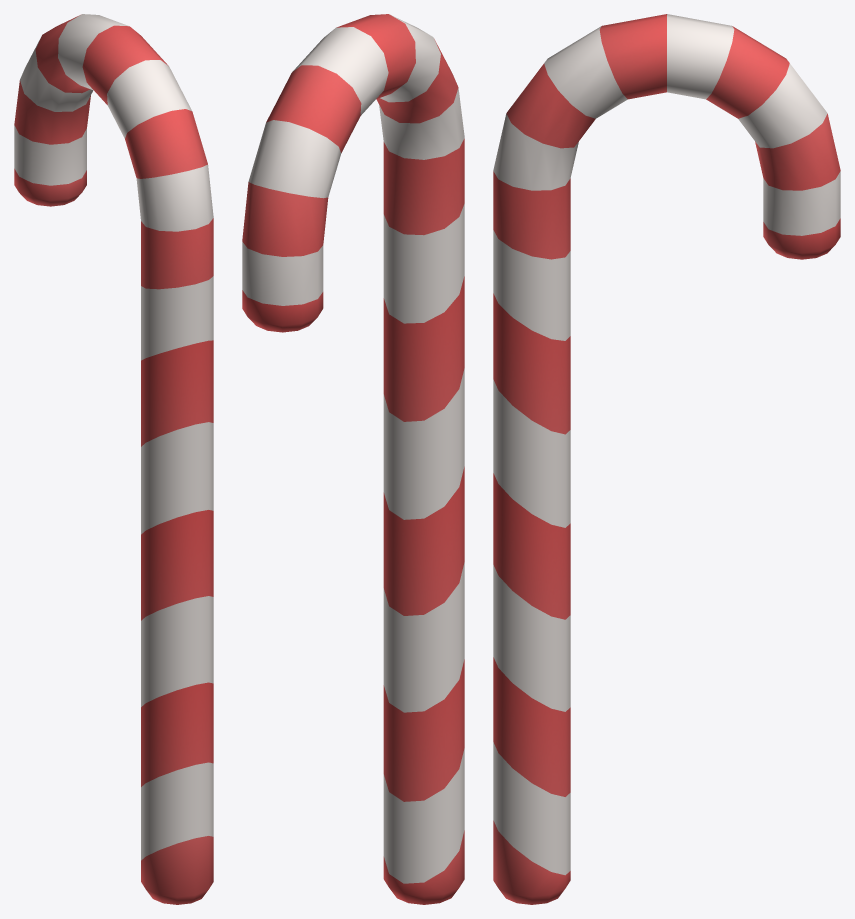
Rendered from Candy Cain.FBX.
3 renders of one model, left to right at view 1: azimuth 30°, elevation 25°; view 2: azimuth 150°, elevation 25°; view 3: azimuth 270°, elevation 25°, orthographic. The views are drawn at different scales.
Parts seen in each view (by area): view 1: Candy Cain; view 2: Candy Cain; view 3: Candy Cain.
Boxes of the visible parts, x1,y1,x2,y2 form: Candy Cain: (14,14,213,904); Candy Cain: (242,14,464,904); Candy Cain: (493,14,840,904).
Size of the model in its own units: 5.85 by 73.65 by 26.26.
